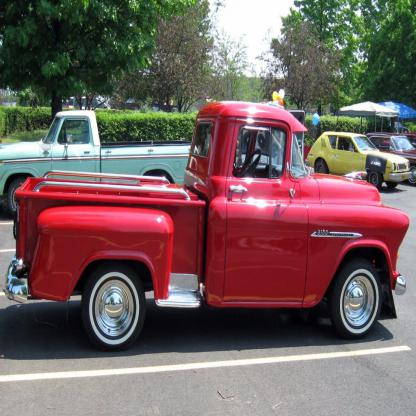Car: (2, 102, 410, 352)
Truck: (2, 101, 410, 352), (0, 108, 200, 220)
